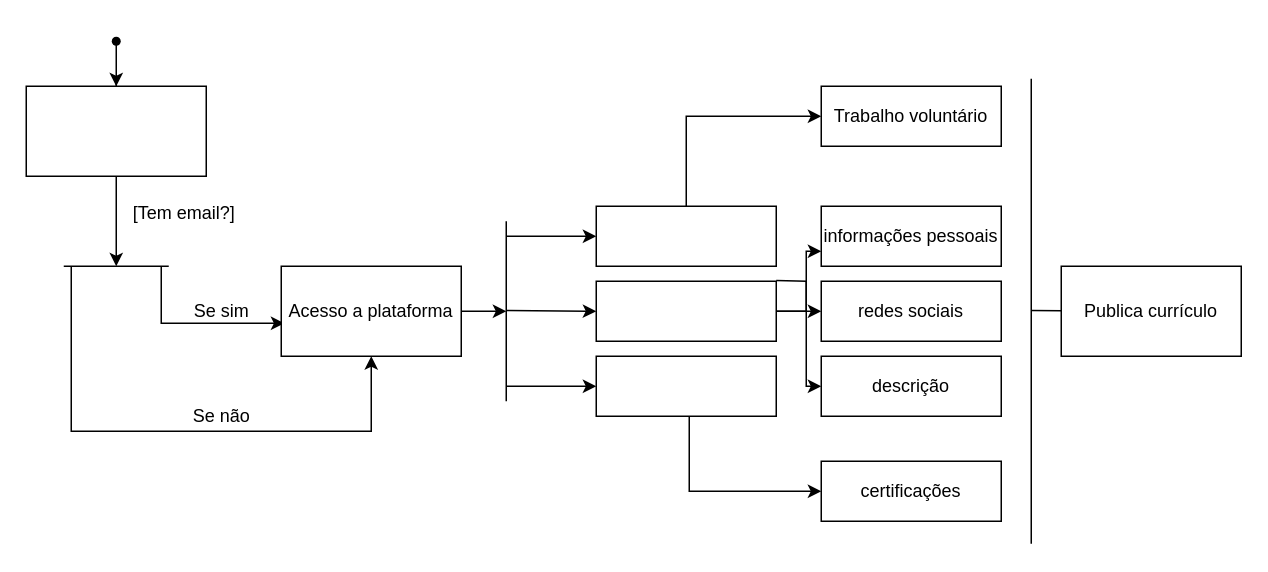
Some shapes in this 1268 by 572 pixel diagram are drawn without their labels. Here are the shapes that lost their labels. From the top down, the box of each, then its label:
(25, 85, 206, 176): login/cadastro na plataforma
(595, 205, 776, 266): Carreira profissional
(595, 280, 776, 341): Cadastro pessoal
(595, 355, 776, 416): informações acadêmicas
